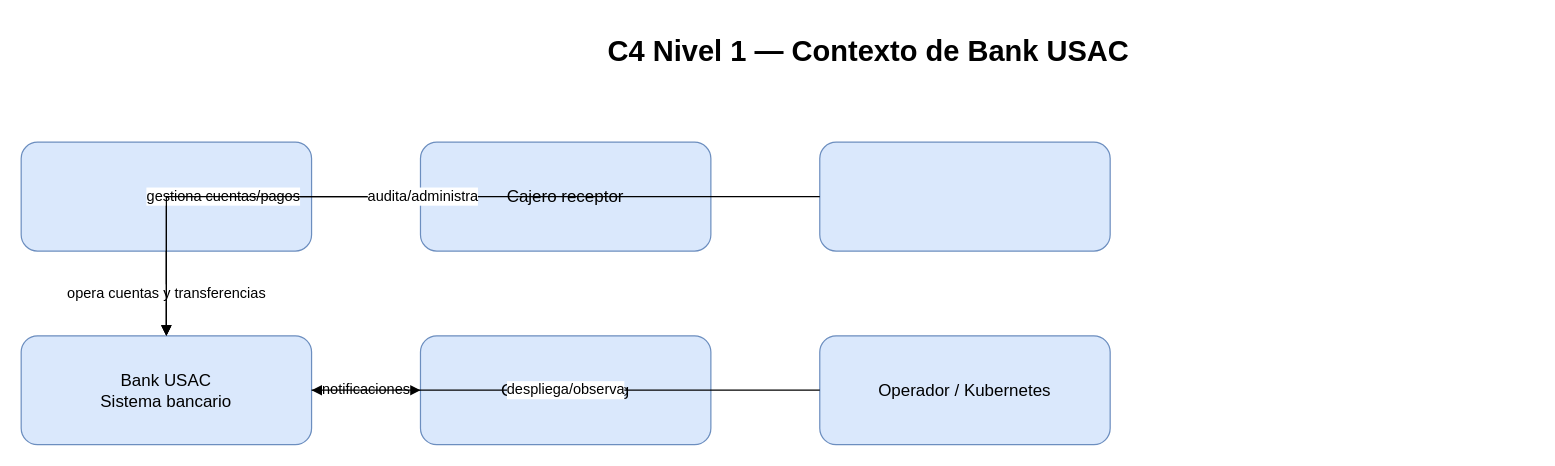
Some shapes in this 1555 by 466 pixel diagram are drawn without their labels. The centre of each missing label's shape, as x and y in pixels:
"Administrador" belongs at (964,196).
"Cliente" belongs at (166,196).
